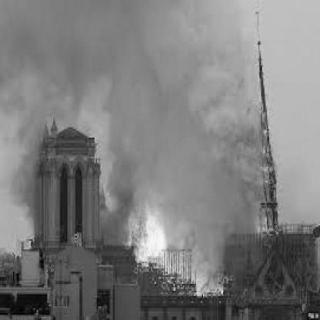Fire: (128, 188, 176, 266), (187, 264, 217, 294)
Smoke: (6, 2, 116, 106), (9, 125, 42, 209)
